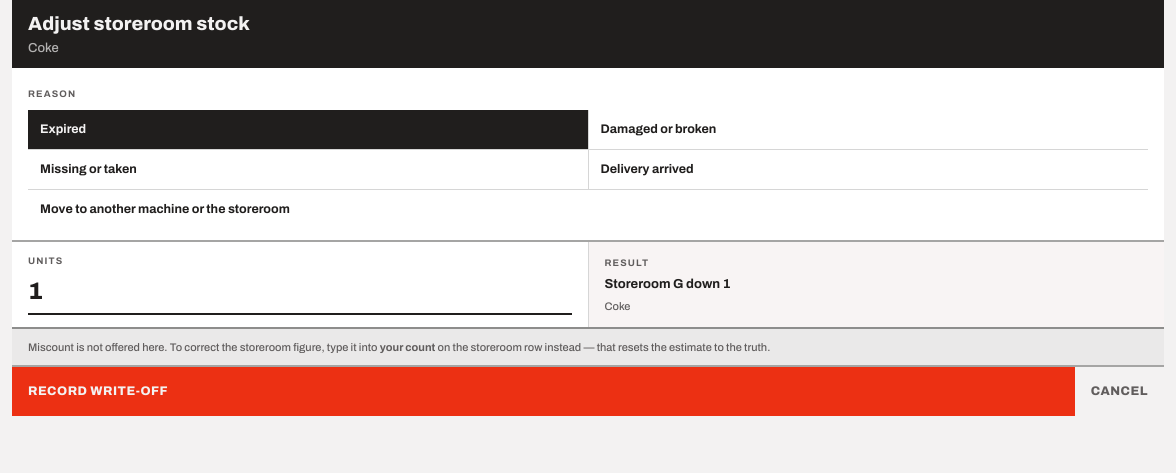
Scenario: AdjustmentSheet › refuses a fractional quantity rather than writing a fractional movement
Replace the text in the number field labelled "Units" with "1.5" at [300, 294], box [28,272,572,314]
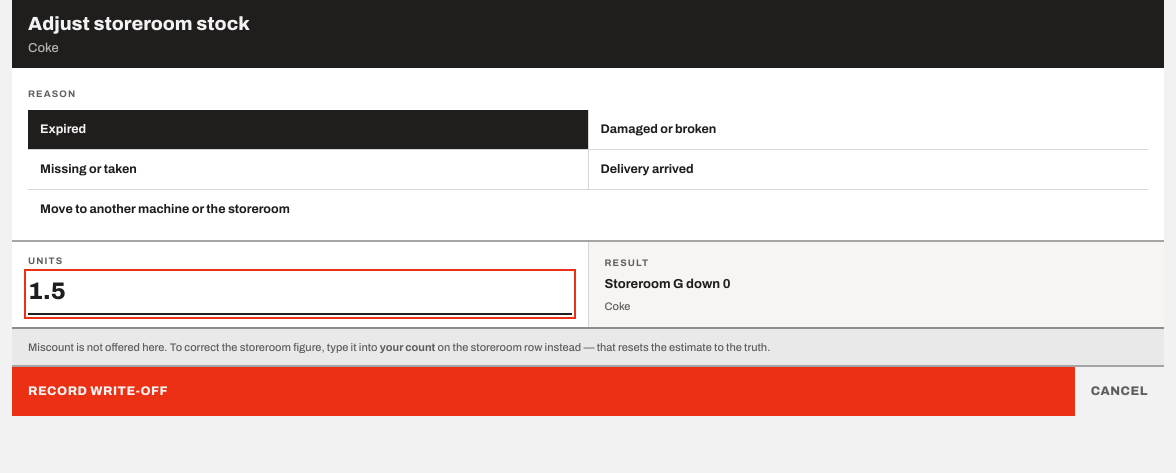
Click the button "Record write-off" at [98, 391], box [12,367,1075,416]
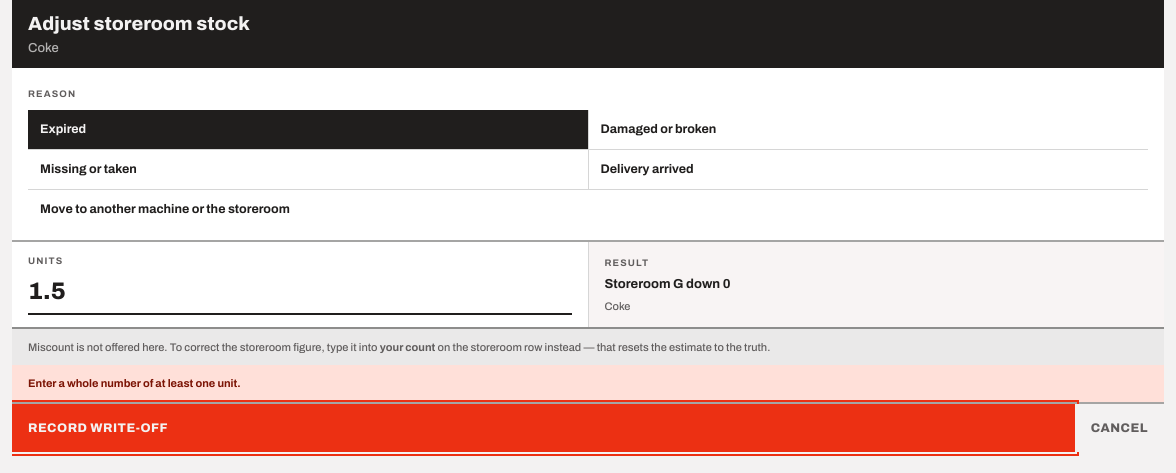
Check: the message "Enter a whole number of at least one unit." is shown, box [12,365,1164,402]
